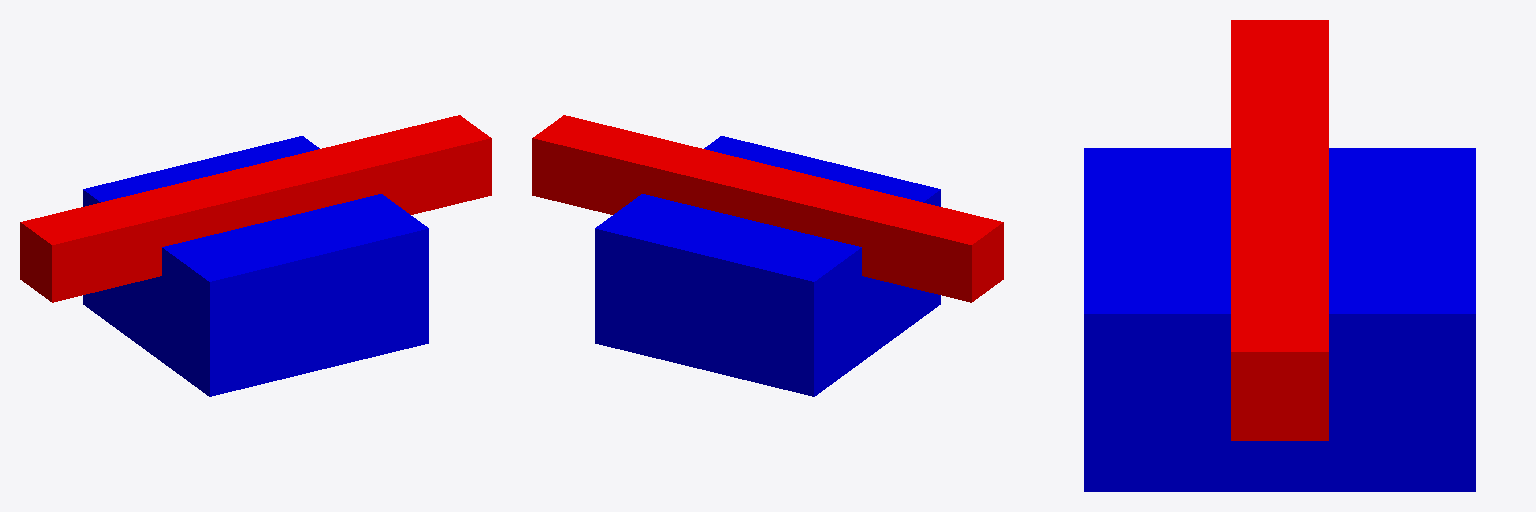
The robot description file, URDF, robot "revolute_test":

<robot name="revolute_test">
  <link name="base">
    <visual>
      <geometry><box size="0.2 0.2 0.1"/></geometry>
      <material name="blue"><color rgba="0 0 1 1"/></material>
    </visual>
  </link>

  <link name="arm">
    <visual>
      <geometry><box size="0.4 0.05 0.05"/></geometry>
      <material name="red"><color rgba="1 0 0 1"/></material>
    </visual>
  </link>

  <joint name="joint1" type="revolute">
    <parent link="base"/>
    <child link="arm"/>
    <origin xyz="0 0 0.05" rpy="0 0 0"/>
    <axis xyz="0 0 1"/>
    <limit lower="-3.14" upper="3.14" effort="10" velocity="1"/>
  </joint>
</robot>

--- Facts derived from the render (not from the file) ---
Views: 3 orthographic renders of the robot side by side, from view 1: azimuth 30°, elevation 25°; view 2: azimuth 150°, elevation 25°; view 3: azimuth 270°, elevation 25°.
Model revolute_test with 2 links and 1 joints (1 revolute), rooted at base, posed every joint at zero.
Links seen in each view (by area): view 1: base, arm; view 2: base, arm; view 3: base, arm.
Link boxes in pixels (box(x1,y1,x2,y2)): base: box(83, 136, 428, 396); arm: box(20, 115, 491, 302); base: box(595, 136, 940, 396); arm: box(532, 115, 1003, 302); base: box(1084, 148, 1475, 491); arm: box(1231, 20, 1328, 440).
Size in the robot's own frame: 0.4 by 0.2 by 0.125 metres.
Geometry: primitives only (box / cylinder / sphere), no mesh files.
